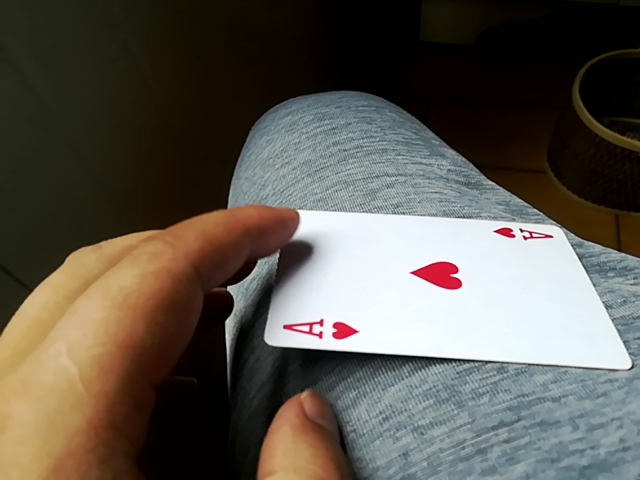hx a: (256, 207, 622, 369)
